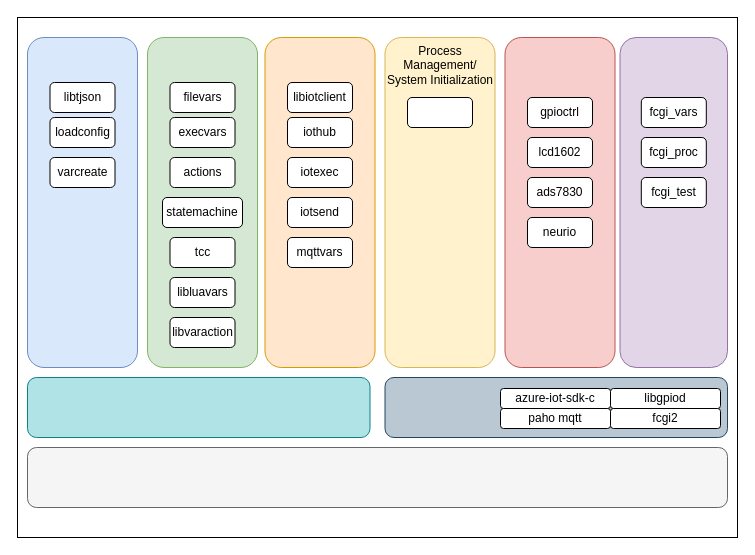
Image size: 755x555. Some labels were removed from this diagram. Here are the shapes that lost their labels. From the top down, the box of each, then its label:
(406, 96, 472, 128): procmon
(26, 36, 138, 368): Configuration Management
(146, 36, 258, 368): Application Services
(264, 36, 375, 368): Cloud
(504, 36, 615, 368): Hardware Interfaces
(619, 36, 728, 368): Web Services
(26, 376, 370, 438): varserver IPC Key/Value Pub/Sub Datastore
(384, 376, 728, 438): 3rd party libraries
(26, 446, 728, 508): Operating System (POSIX/Linux)
